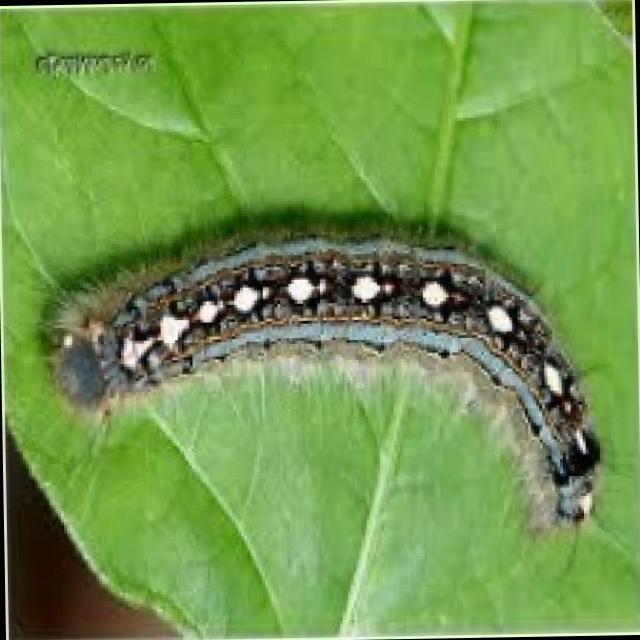armyworm: (28, 204, 623, 569)
